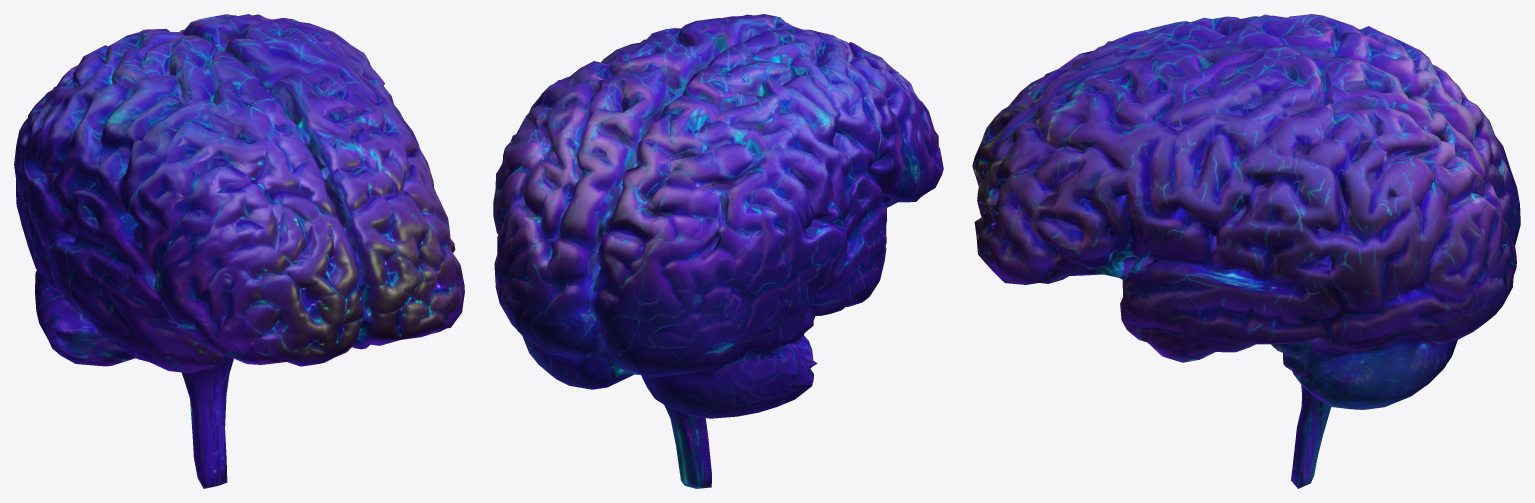
The model's file is ai-brain.glb.
3 views of the same model, side by side, from view 1: azimuth 30°, elevation 25°; view 2: azimuth 150°, elevation 25°; view 3: azimuth 270°, elevation 25° (orthographic). The views are drawn at different scales.
Bounding box in the file's own units: 1.43 × 1.81 × 2.01.
1 material, 1 textured.
